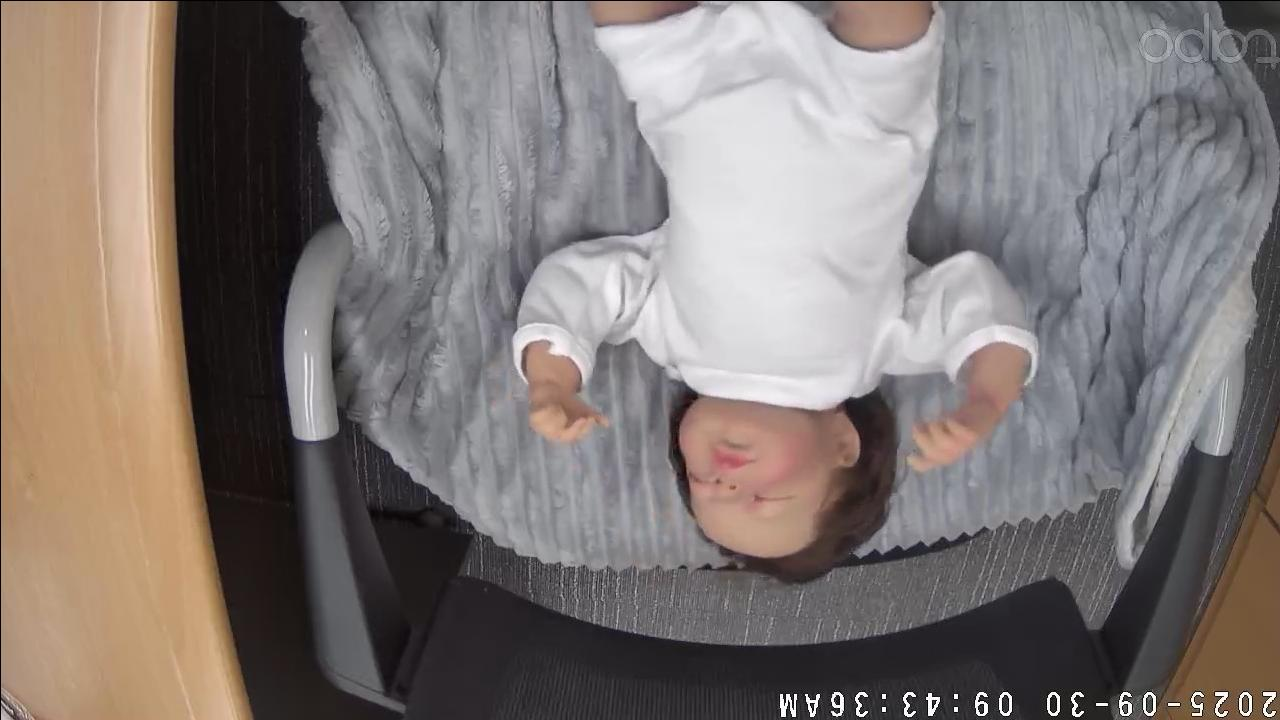hand: (903, 404, 983, 472), (524, 382, 612, 443)
